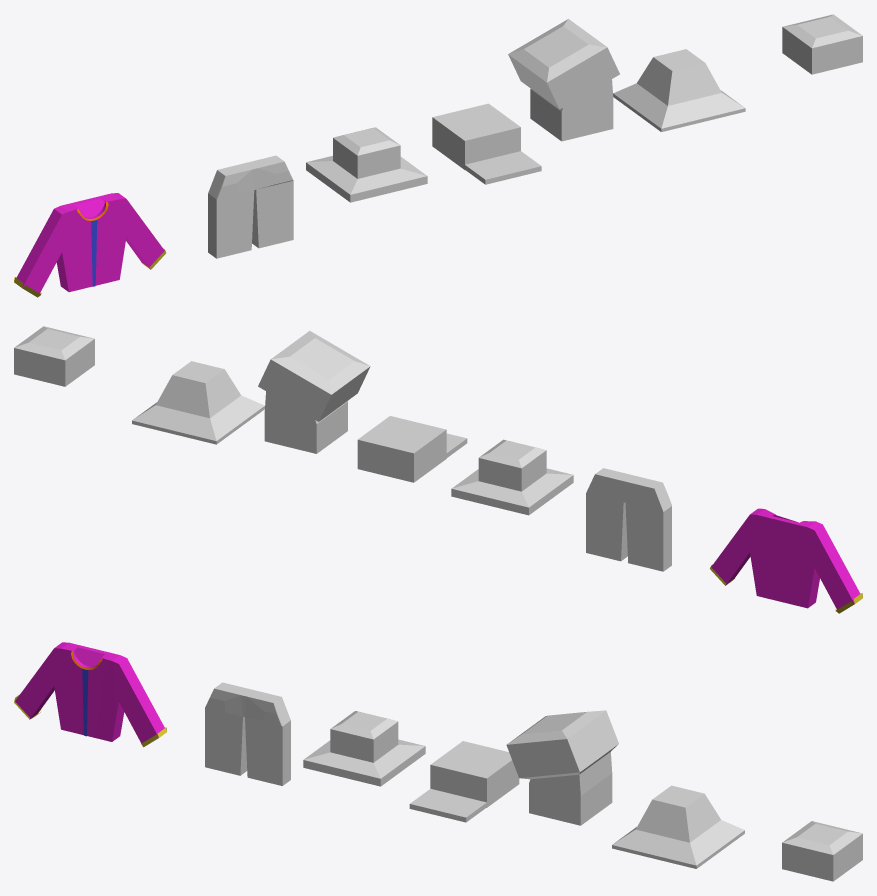
File: Torso.fbx
The picture shows the model from 3 angles, top to bottom: view 1: azimuth 30°, elevation 25°; view 2: azimuth 150°, elevation 25°; view 3: azimuth 330°, elevation 25°; orthographic projection.
Visible parts, largest first — view 1: Torso, hat3, Pants, hat4, Hat2, Hat1, Hat5; view 2: hat3, Torso, Pants, hat4, Hat1, Hat2, Hat5; view 3: hat3, Torso, Pants, hat4, Hat2, Hat1, Hat5.
Boxes of the visible parts, bbox=[...] form: Torso: bbox=[14, 193, 166, 297]; hat3: bbox=[508, 19, 619, 141]; Pants: bbox=[208, 155, 293, 258]; hat4: bbox=[613, 49, 745, 131]; Hat2: bbox=[432, 103, 541, 184]; Hat1: bbox=[306, 127, 427, 202]; Hat5: bbox=[782, 14, 862, 74]; hat3: bbox=[258, 331, 370, 453]; Torso: bbox=[710, 508, 862, 613]; Pants: bbox=[586, 468, 671, 571]; hat4: bbox=[132, 361, 264, 444]; Hat1: bbox=[451, 439, 573, 515]; Hat2: bbox=[357, 416, 467, 482]; Hat5: bbox=[14, 326, 94, 386]; hat3: bbox=[506, 710, 618, 825]; Torso: bbox=[14, 642, 166, 747]; Pants: bbox=[205, 682, 290, 785]; hat4: bbox=[612, 785, 744, 868]; Hat2: bbox=[409, 741, 519, 822]; Hat1: bbox=[303, 711, 425, 786]; Hat5: bbox=[782, 821, 862, 881].
Bounding box in the file's own units: 2148 × 326 × 274.
